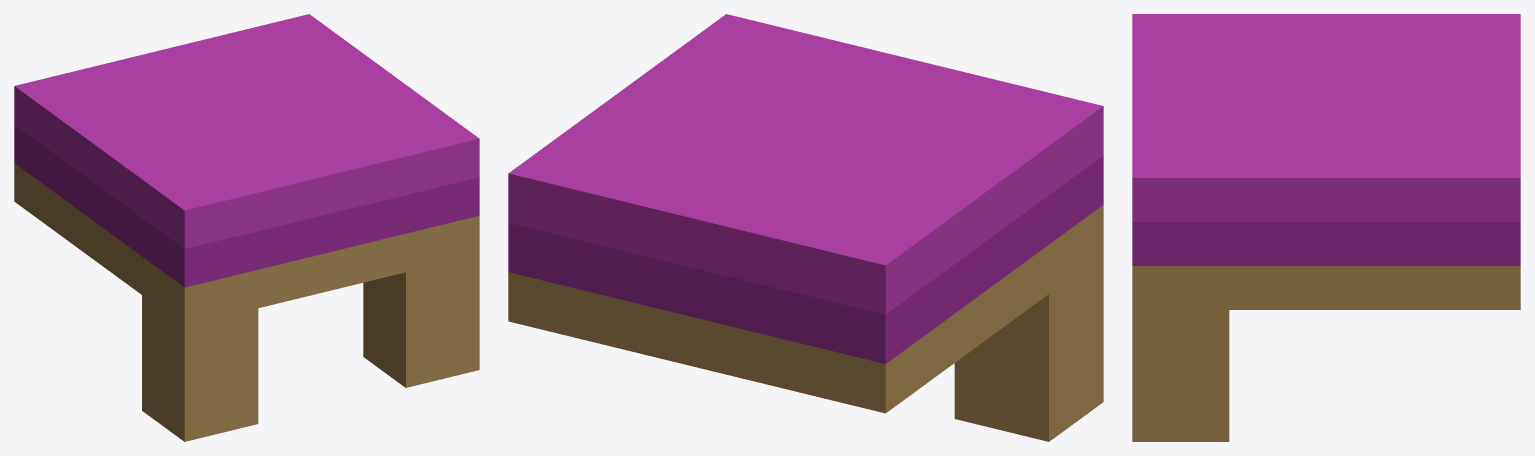
File: Magenta Bed.glb
3 views of the same model, side by side, from view 1: azimuth 30°, elevation 25°; view 2: azimuth 150°, elevation 25°; view 3: azimuth 270°, elevation 25° (orthographic). The views are drawn at different scales.
Visible parts, largest first — view 1: Untitled; view 2: Untitled; view 3: Untitled.
Part boxes in pixels (left/top/right/bottom): Untitled: left=14, top=14, right=479, bottom=441; Untitled: left=508, top=14, right=1103, bottom=441; Untitled: left=1132, top=14, right=1520, bottom=441.
Bounding box in the file's own units: 1.6 × 1.2 × 1.6.
Materials: 1 (1 with a texture image).
